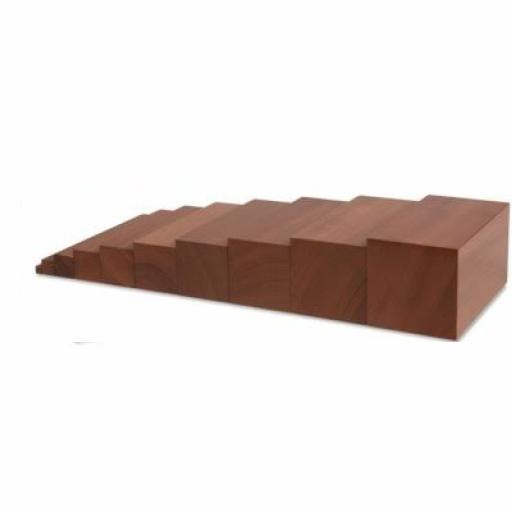brownstair: (22, 192, 512, 342)
